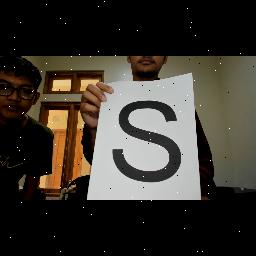s: (111, 96, 185, 188)
